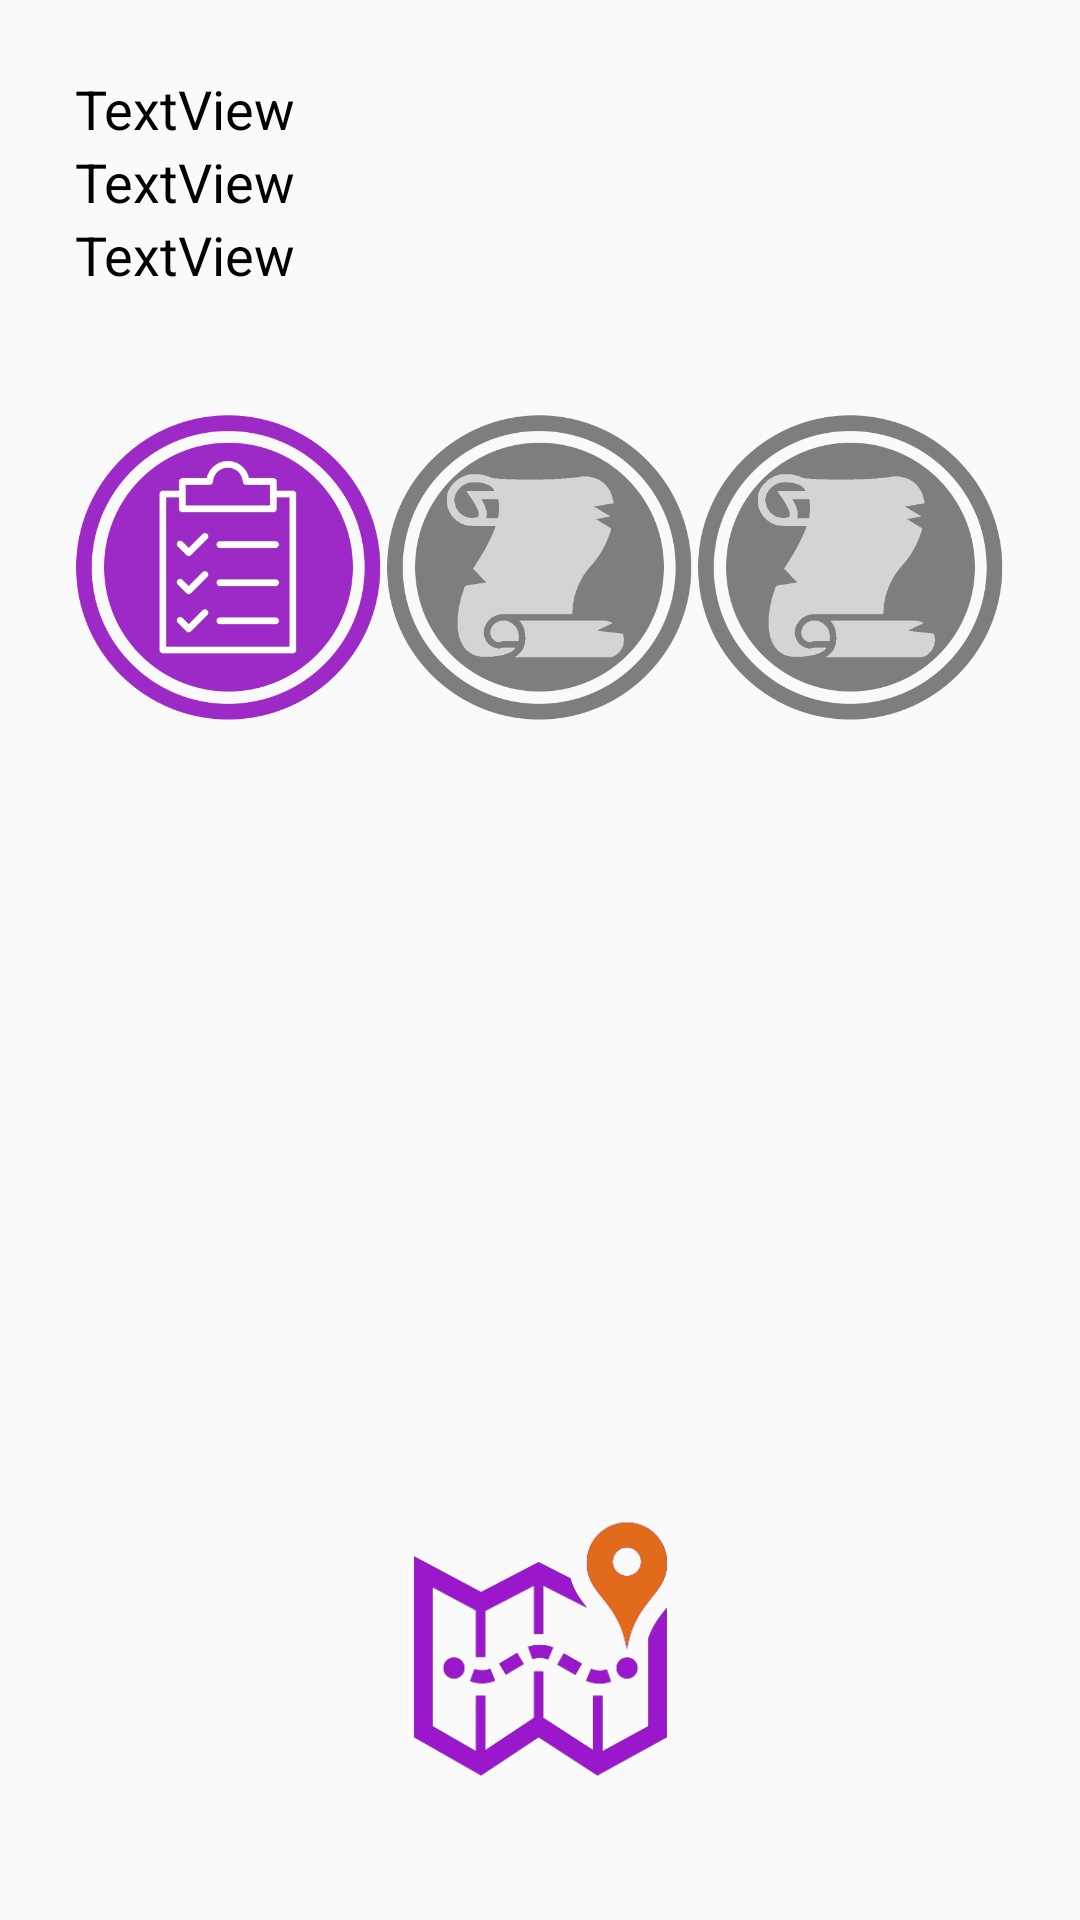

Where to tap for icons on this 1080 × 1920 app screen, as (x=x, y=y):
mapa: (x=540, y=1649)
teste: (x=228, y=567)
